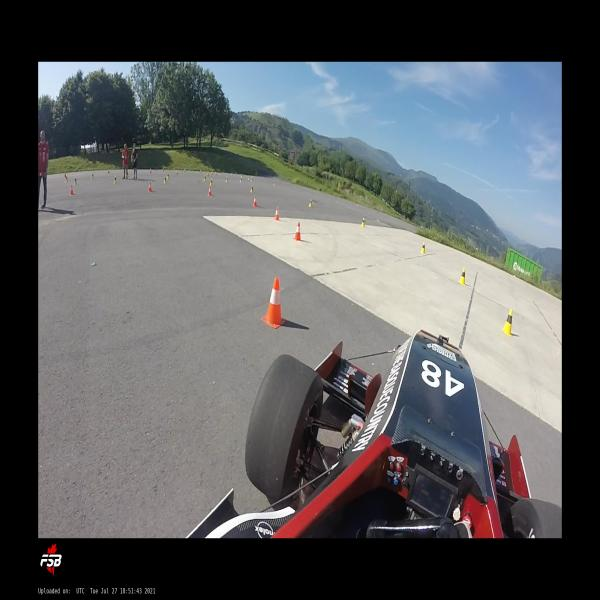orange_cone: (261, 277, 286, 329), (294, 222, 302, 241), (274, 207, 280, 221), (207, 186, 212, 196), (253, 196, 257, 207), (148, 182, 152, 192), (70, 185, 74, 195), (176, 170, 178, 175), (150, 168, 151, 173)
yellow_cone: (502, 308, 513, 336), (458, 267, 466, 285), (420, 242, 425, 254), (308, 199, 313, 207), (362, 218, 366, 227), (209, 178, 213, 186), (166, 172, 169, 180), (250, 185, 253, 193), (114, 176, 117, 184), (163, 176, 166, 184), (74, 177, 77, 185), (225, 177, 228, 183), (92, 172, 94, 180), (203, 176, 206, 181), (66, 176, 68, 183), (239, 178, 242, 182), (251, 177, 252, 182), (248, 176, 249, 180)
